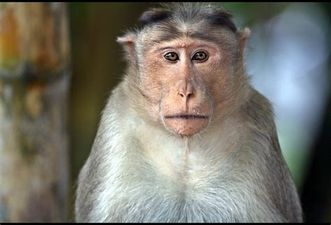monkey: (85, 14, 316, 207)
